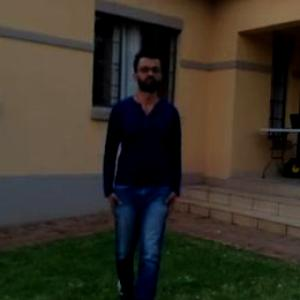follow: (104, 40, 188, 294)
